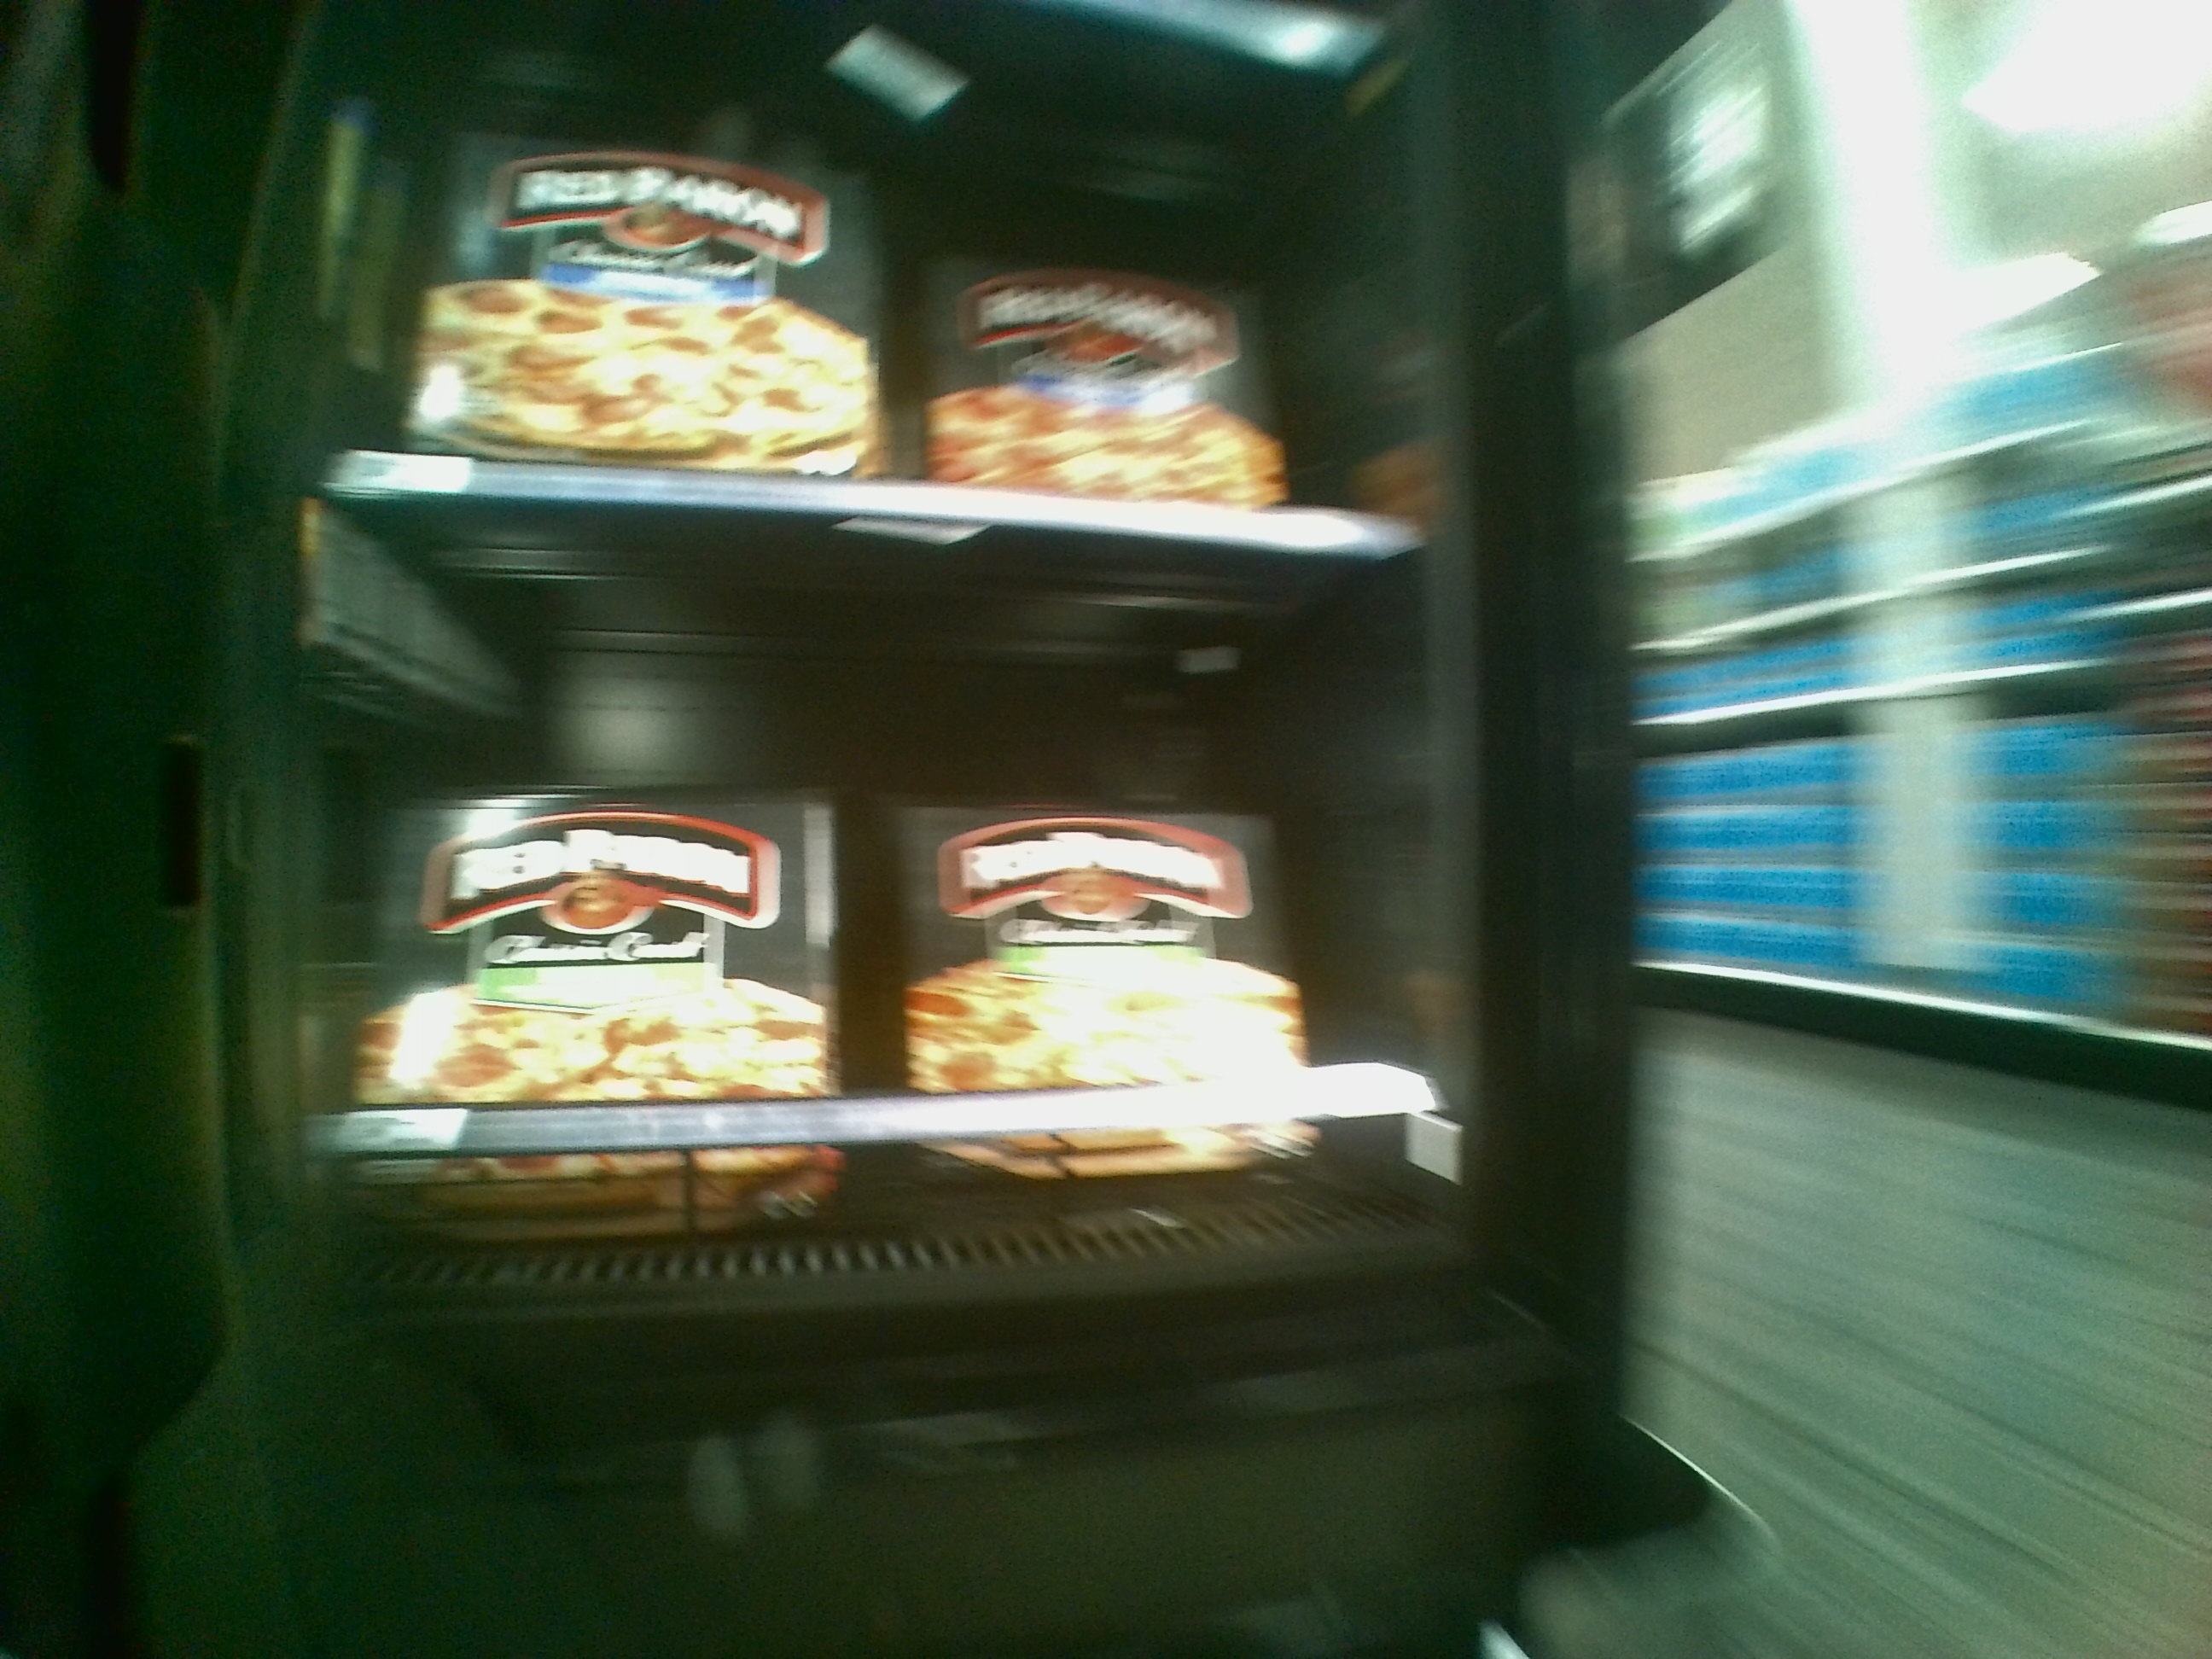shelf: (329, 545, 1442, 1251), (333, 0, 1439, 537)
